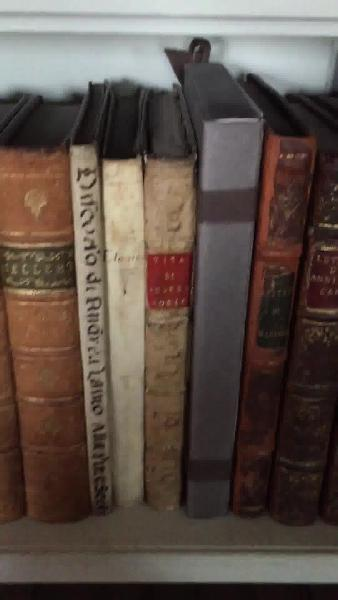Aa6-24: (74, 138, 127, 515)
Aa6-25: (101, 159, 147, 511)
Aa6-26: (146, 153, 191, 524)
Aa6-27: (193, 91, 258, 523)
Aa6-28: (233, 99, 303, 518)
